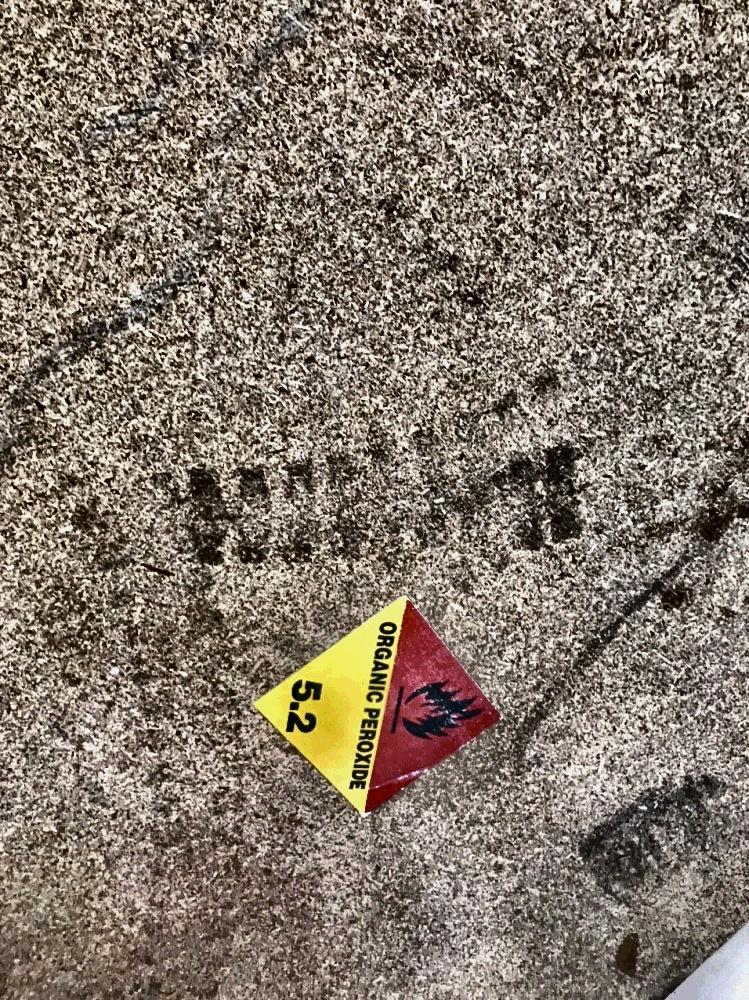organic-peroxide: (243, 595, 502, 817)
